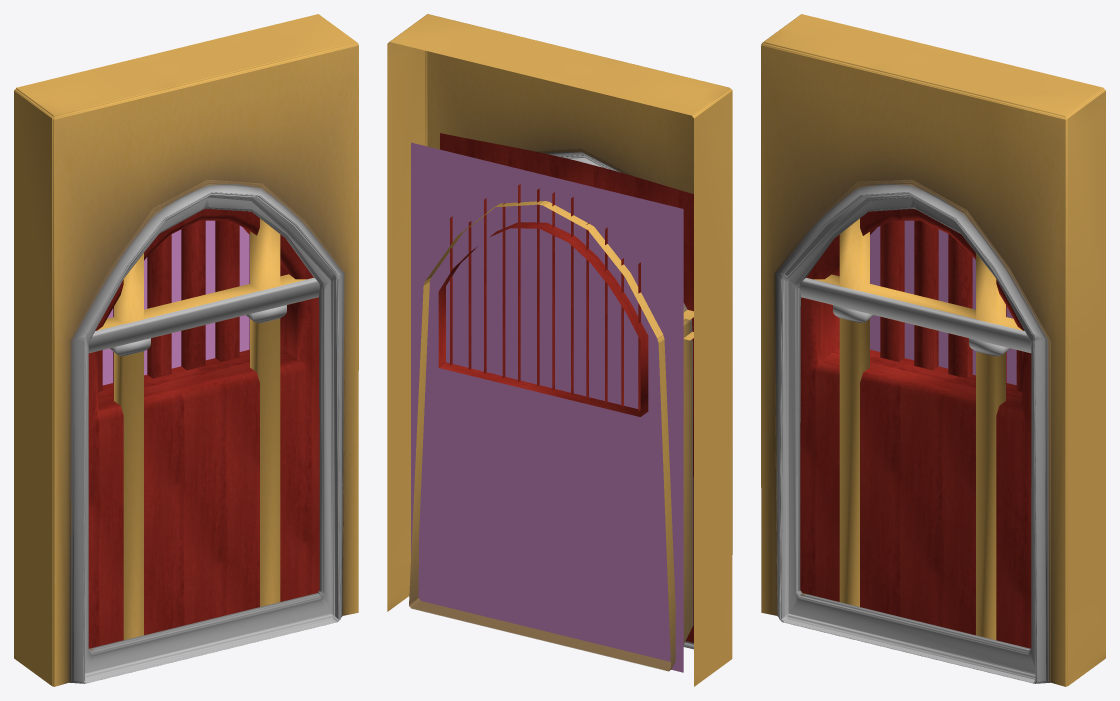
File: JanelaSuperiorFrente.fbx
The picture shows the model from 3 angles, left to right: view 1: azimuth 30°, elevation 25°; view 2: azimuth 150°, elevation 25°; view 3: azimuth 330°, elevation 25°; orthographic projection.
Visible parts, largest first — view 1: ParedeJanelaSuperiorFrente, JanelaSuperiorFrente, GradeJanelaSuperiorFrente, VidroJanelaSuperiorFrente; view 2: VidroJanelaSuperiorFrente, ParedeJanelaSuperiorFrente, JanelaSuperiorFrente; view 3: ParedeJanelaSuperiorFrente, JanelaSuperiorFrente, GradeJanelaSuperiorFrente, VidroJanelaSuperiorFrente.
Part boxes in pixels (x1,y1,x2,y2): ParedeJanelaSuperiorFrente: [14, 14, 358, 686]; JanelaSuperiorFrente: [88, 208, 319, 648]; GradeJanelaSuperiorFrente: [88, 218, 319, 639]; VidroJanelaSuperiorFrente: [102, 220, 249, 385]; VidroJanelaSuperiorFrente: [411, 142, 683, 672]; ParedeJanelaSuperiorFrente: [387, 14, 732, 686]; JanelaSuperiorFrente: [438, 133, 693, 642]; ParedeJanelaSuperiorFrente: [761, 14, 1105, 686]; JanelaSuperiorFrente: [800, 208, 1031, 648]; GradeJanelaSuperiorFrente: [800, 218, 1031, 639]; VidroJanelaSuperiorFrente: [870, 220, 1016, 385].
Bounding box in the file's own units: 180 × 320 × 46.48.
